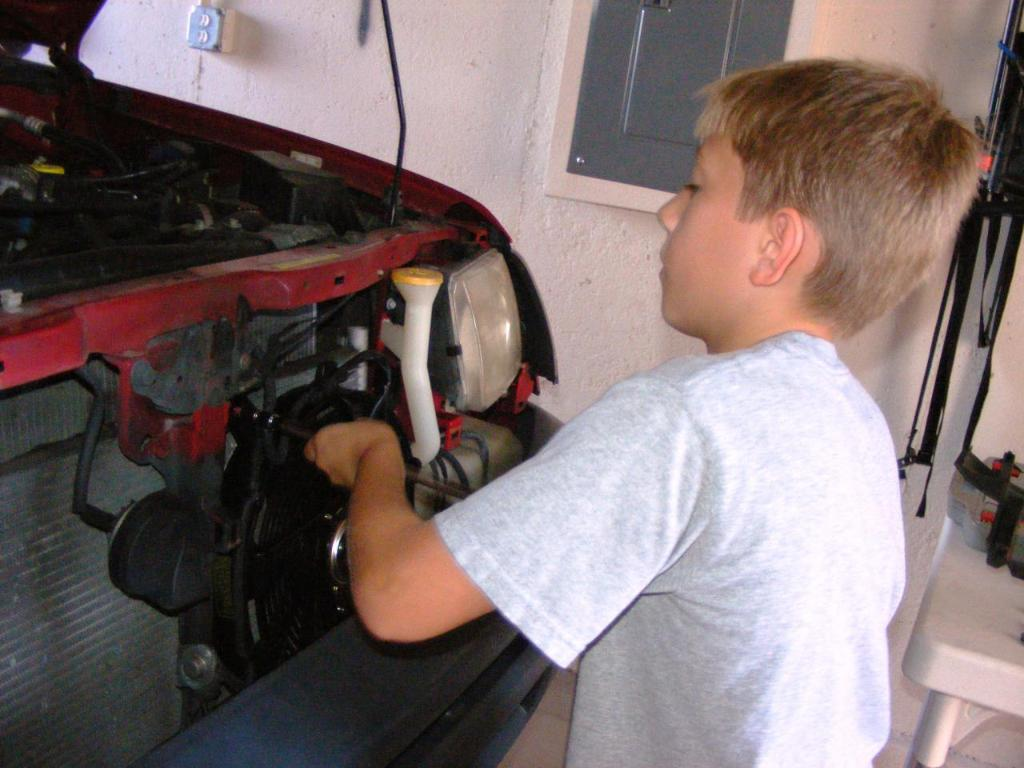face: (649, 111, 788, 331)
